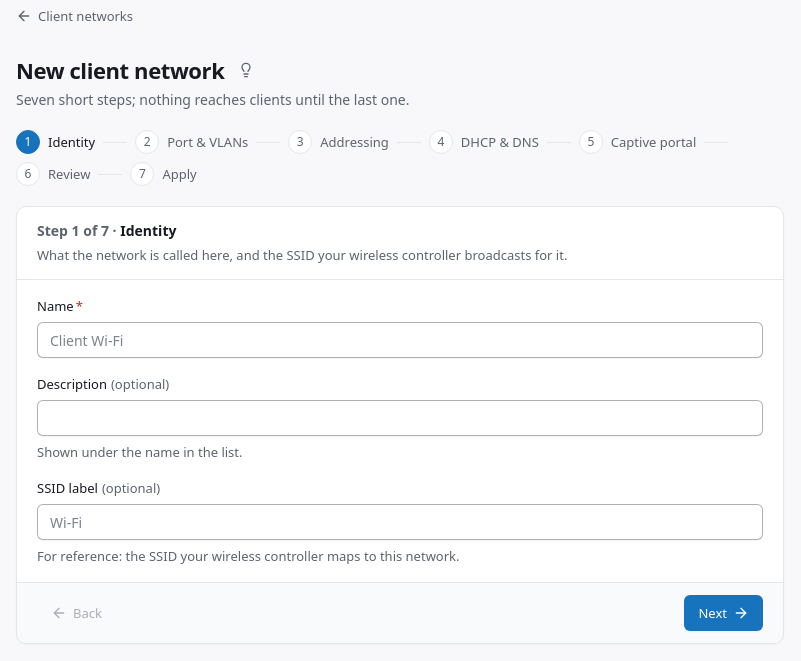
New client network › is a 7-step wizard whose interface picker only offers guest-capable ports
Expected: the text "Step 1 of 7 ·" is shown, [37,221,120,240]
Expected: the button "1 Identity" is shown, [16,130,95,154]
In the field labelled "Name*": (400, 340) [37,322,763,358], type "Pool WiFi"
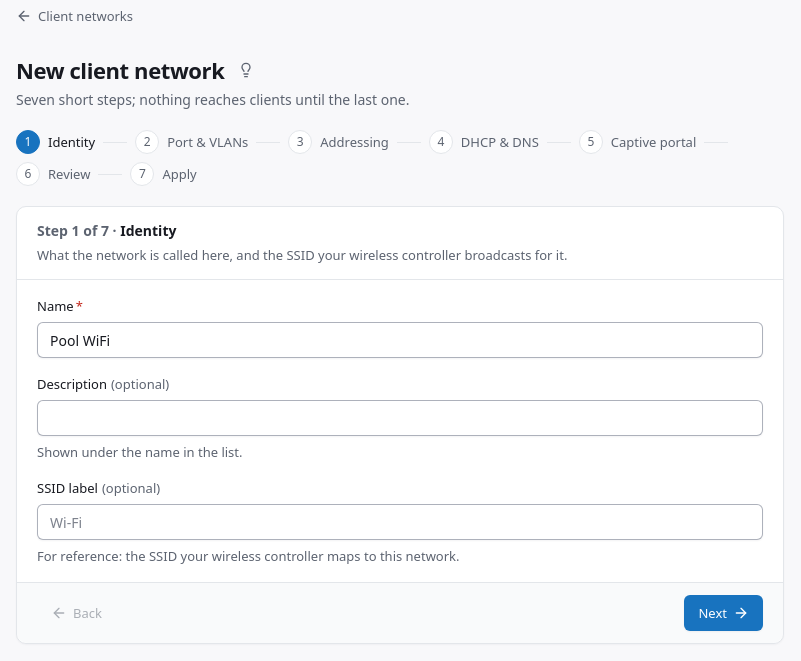
Click the button "Next": (724, 613) [684,595,763,631]
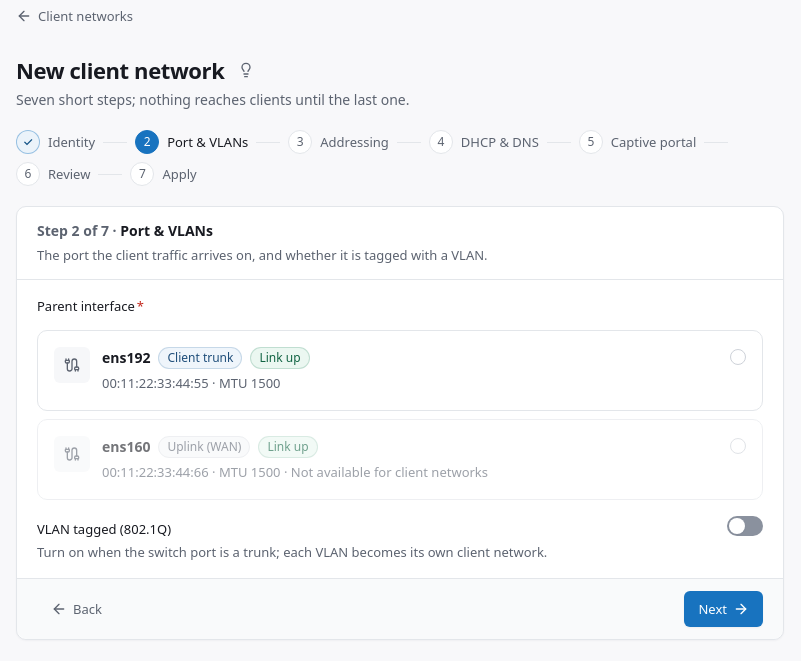
Result: the radio button labelled "ens192 Client trunk Link up 00:11:22:33:44:55 · MTU 1500" is enabled at [37,330,763,411]
Result: the radio button labelled "ens160" is disabled at [37,419,763,500]
